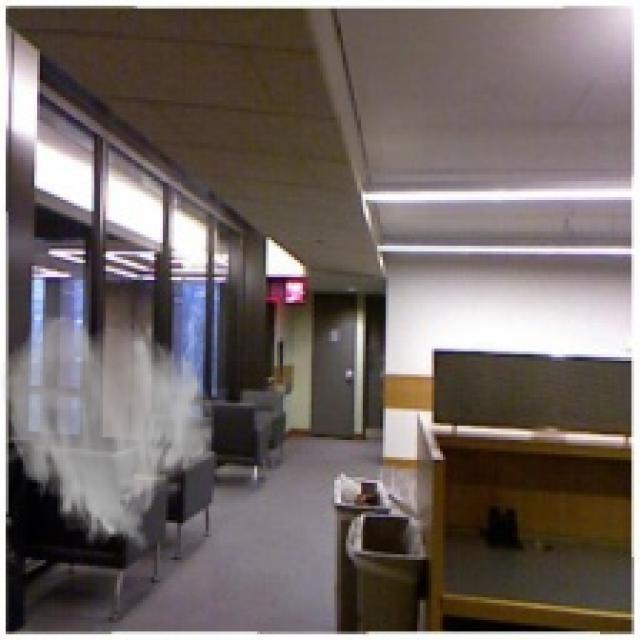Smoke: (0, 312, 217, 554)
